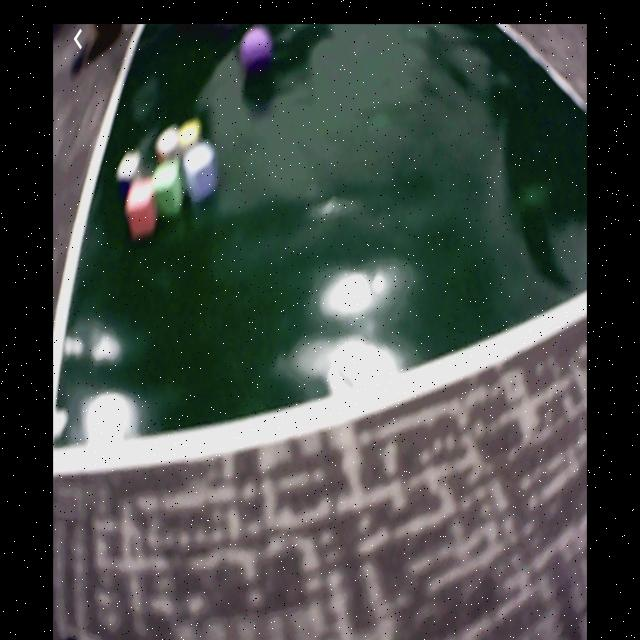ball: (240, 28, 274, 76)
